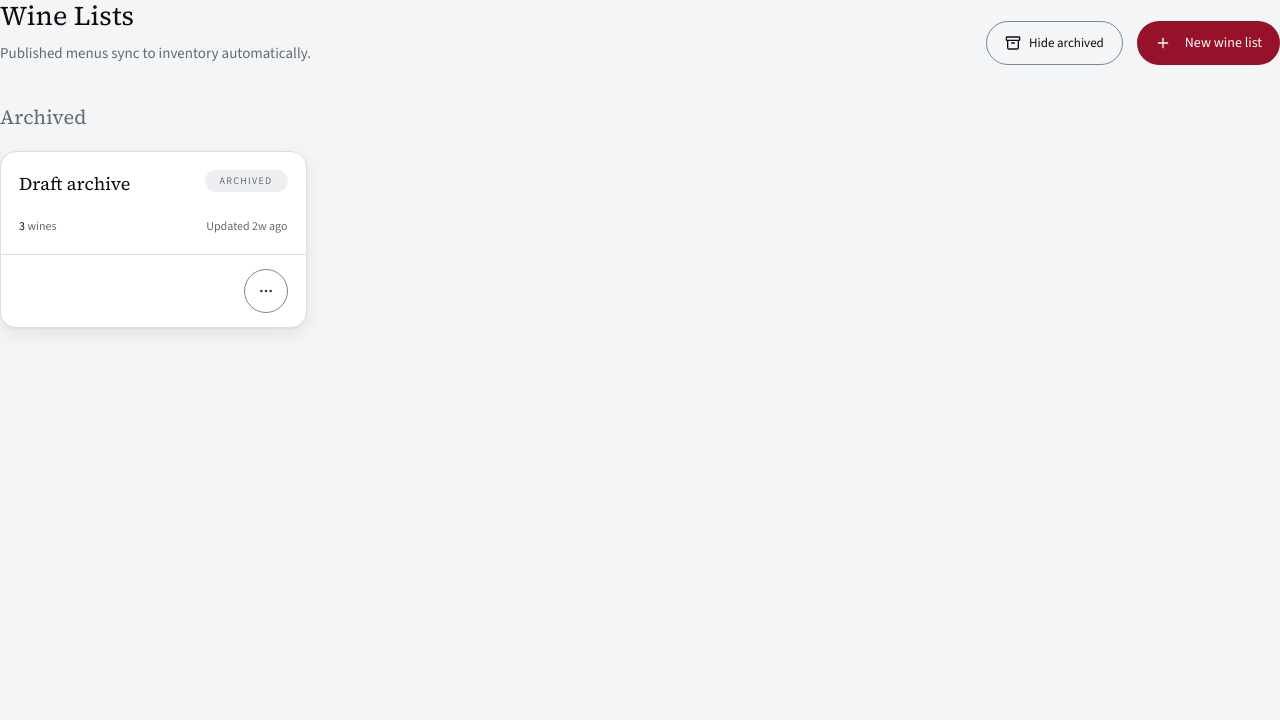
Test case: WineListLanding permanent-delete confirmation › preserves the archived-list warning when published is false
Click the button named "More actions for Draft archive": (266, 291) [244,269,288,313]
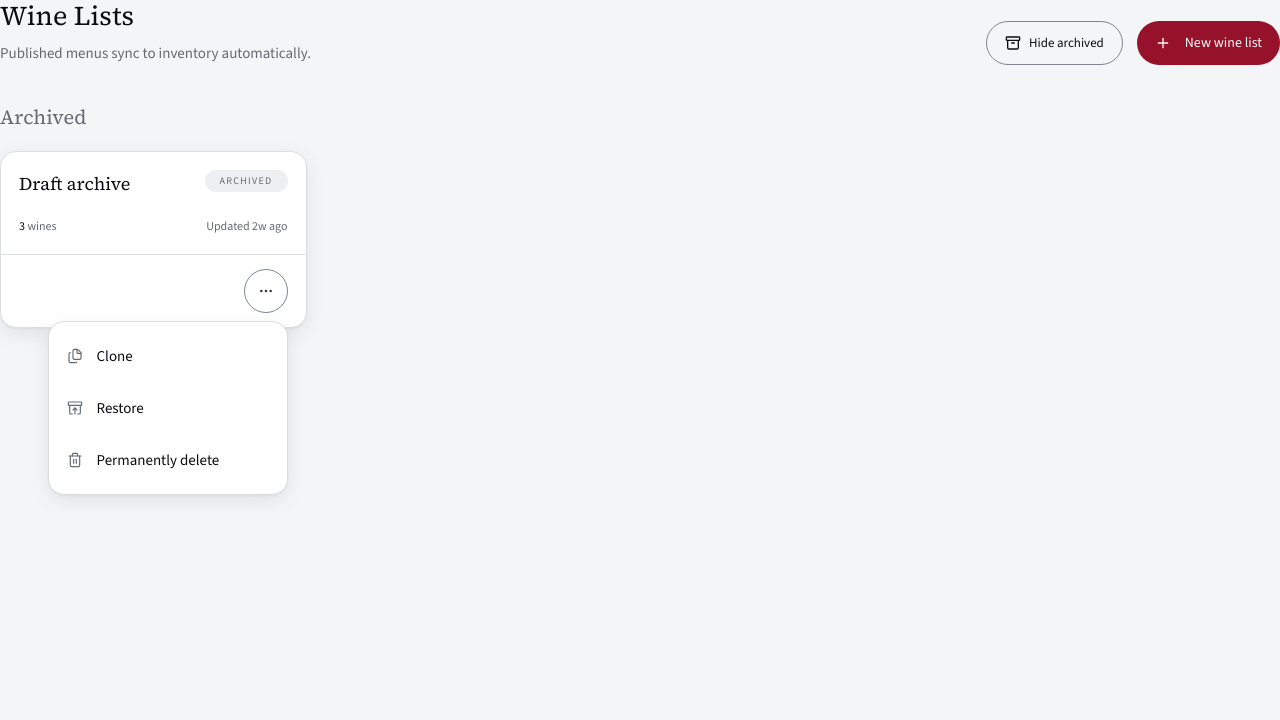
Click the menu item "Permanently delete": (168, 460) [48,434,286,486]
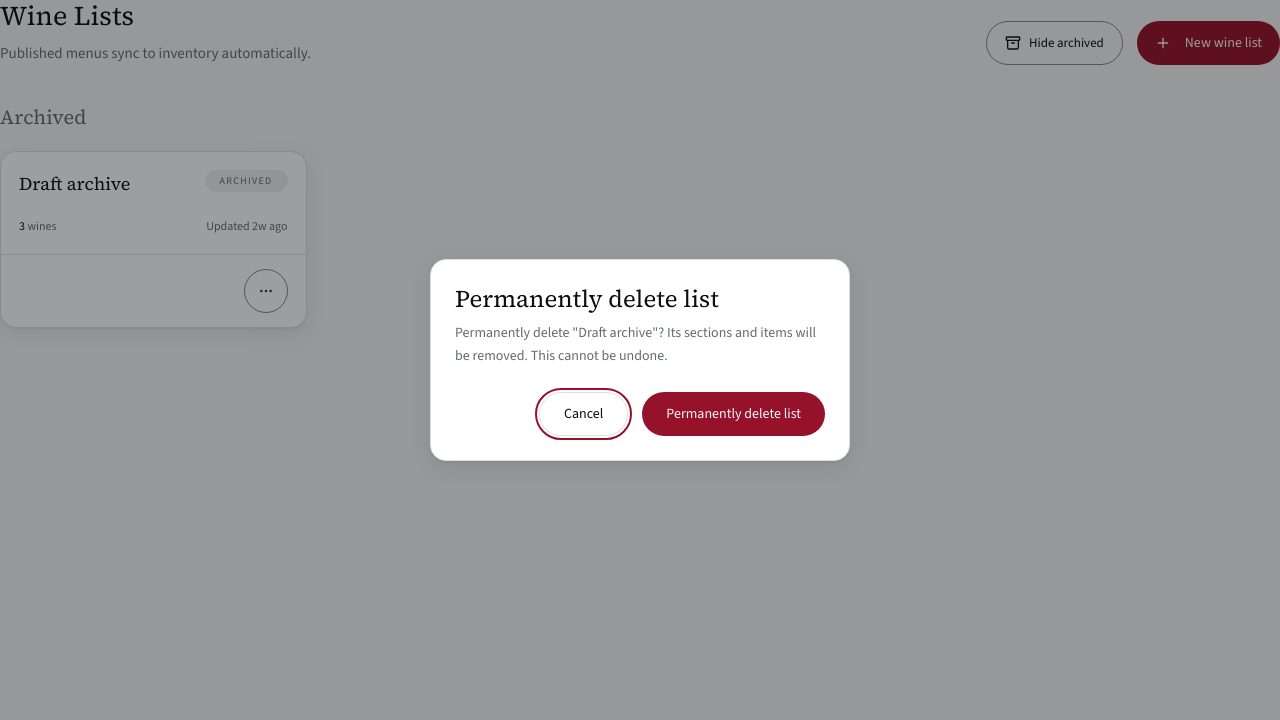
Now the dialog is shown, box [430,259,850,461]
Now the dialog shows "Permanently delete \"Draft archive\"? Its sections and items will be removed. This cannot be undone.", box [455,323,816,365]
